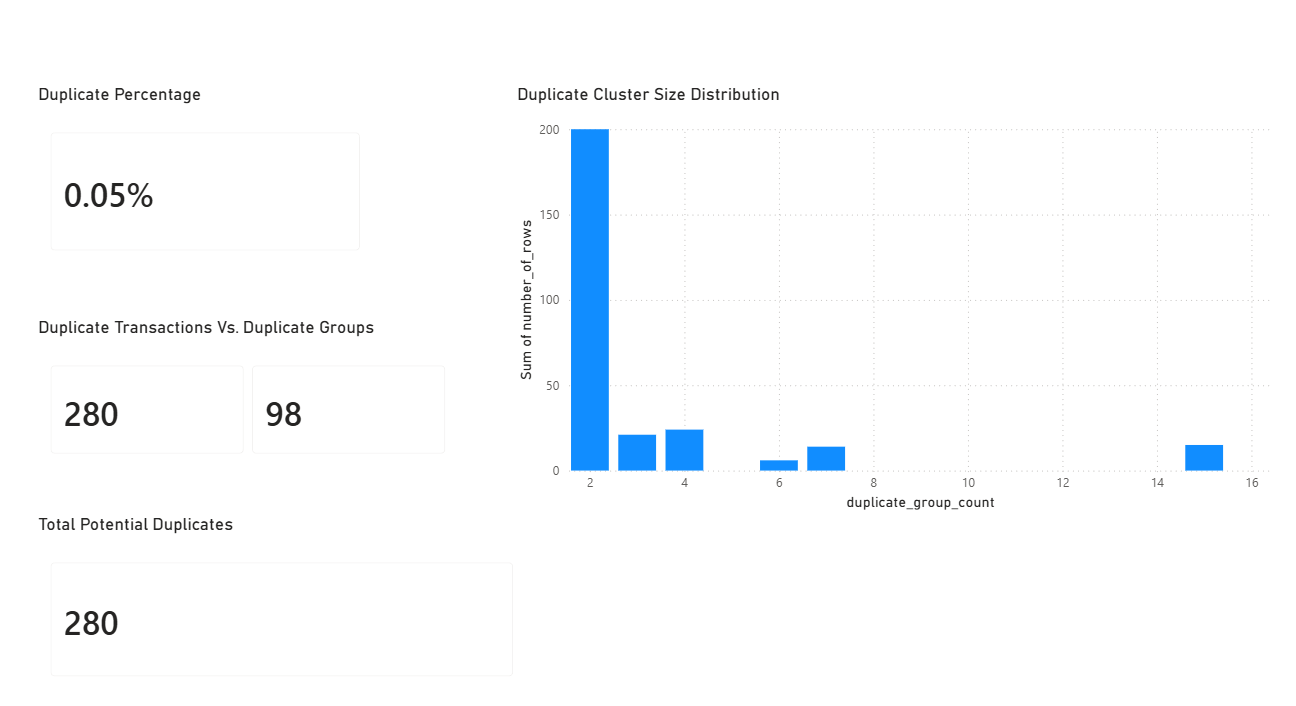

Layout of this report page (visuals, bound fields, positions):
{"tool":"powerbi","page":{"name":"Data Quality","canvas":[1280,720],"ordinal":7},"visuals":[{"type":"cardVisual","title":"Duplicate Percentage","fields":{"Data":["Sum(data_quality duplicate_percentage.percentage_of_potential_duplicates)"]},"box":[35.3,90.4,335.6,179.7],"z":0},{"type":"cardVisual","title":"Duplicate Transactions Vs. Duplicate Groups","fields":{"Data":["Sum(data_quality duplicate_count.potential_duplicate_transactions)","Sum(data_quality duplicate_groups.potential_duplicate_groups)"]},"box":[35.3,316.9,418.7,150.6],"z":1000},{"type":"cardVisual","title":"Total Potential Duplicates","fields":{"Data":["Sum(data_quality duplicate_count.potential_duplicate_transactions)"]},"box":[35.3,509.1,484.2,175.6],"z":2000},{"type":"clusteredColumnChart","title":"Duplicate Cluster Size Distribution","fields":{"Category":["data_quality duplicate_cluster_sizes.duplicate_group_count"],"Y":["Sum(data_quality duplicate_cluster_sizes.number_of_rows)"]},"box":[501,90,744,419],"z":3000}]}

Visuals, with their boxes on the page's 1280x720 design canvas (x1, y1, x2, y2). These are canvas units, not pixel positions in the 1296x706 screenshot, which may show the page scaled, cropped or inside an application window:
"Duplicate Percentage" cardVisual: [x1=35, y1=90, x2=371, y2=270]
"Duplicate Transactions Vs. Duplicate Groups" cardVisual: [x1=35, y1=317, x2=454, y2=468]
"Total Potential Duplicates" cardVisual: [x1=35, y1=509, x2=520, y2=685]
"Duplicate Cluster Size Distribution" clusteredColumnChart: [x1=501, y1=90, x2=1245, y2=509]
